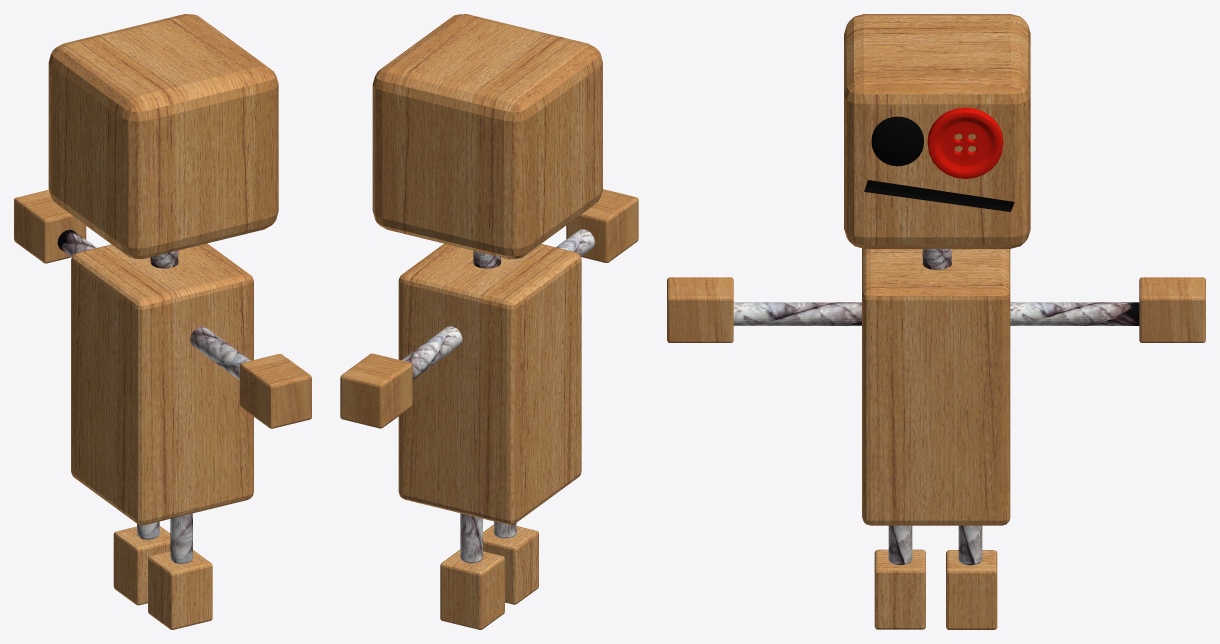
File: muñereal.fbx
The picture shows the model from 3 angles, left to right: view 1: azimuth 30°, elevation 25°; view 2: azimuth 150°, elevation 25°; view 3: azimuth 270°, elevation 25°; orthographic projection. The views are drawn at different scales.
Parts seen in each view (by area): view 1: Cube.002; view 2: Cube.002; view 3: Cube.002.
Part boxes in pixels (x1=…): Cube.002: x1=14, y1=14, x2=311, y2=629; Cube.002: x1=340, y1=14, x2=638, y2=629; Cube.002: x1=667, y1=14, x2=1205, y2=629.
Size of the model in its own units: 132 by 421 by 358.
Materials: 5 (2 with a texture image).
